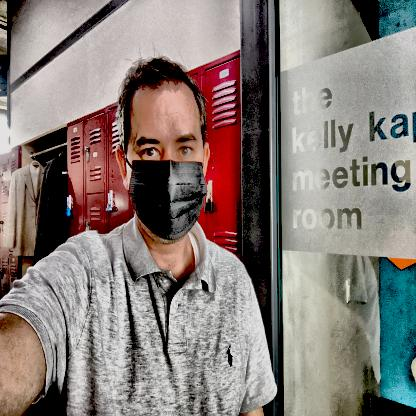not_wear: (120, 56, 209, 238)
